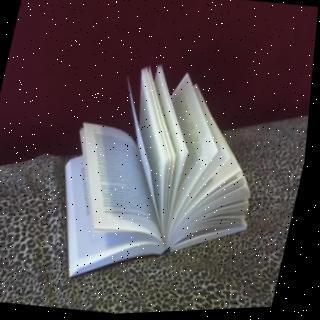book: (39, 47, 294, 305)
